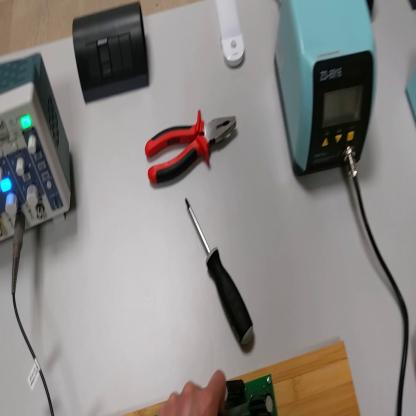hand: (161, 373, 227, 415)
high voltage board: (216, 376, 277, 416)
oscilloscope: (2, 52, 74, 246)
oscilloscope probe tip: (220, 403, 248, 416)
pliers: (143, 108, 242, 187)
screwdriver-: (186, 200, 255, 351)
welder base: (407, 72, 416, 123)
welder station: (274, 2, 382, 181)
working area: (119, 339, 360, 416)
